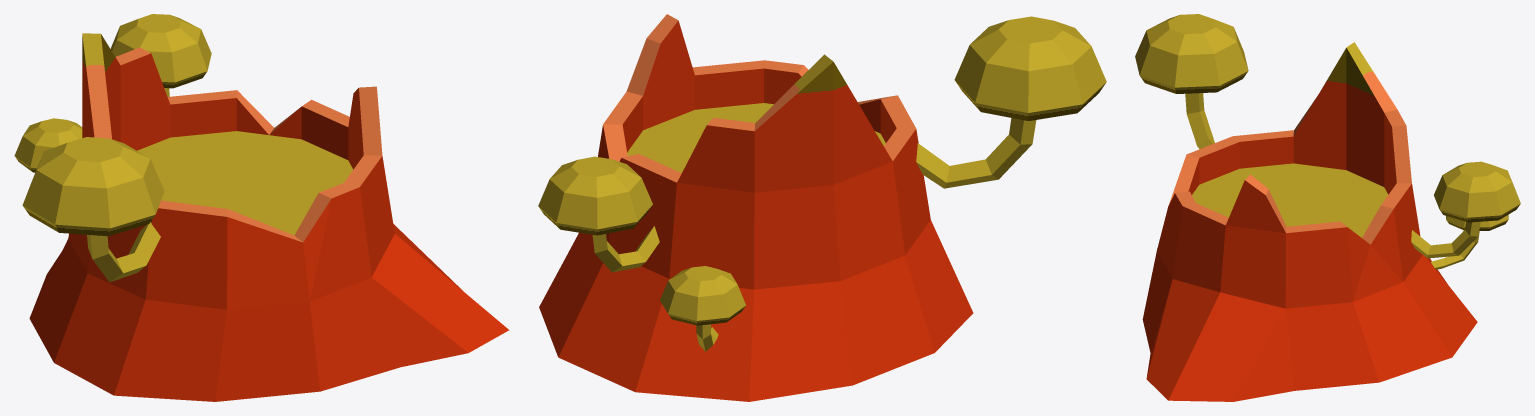
Rendered from trunk.glb.
3 renders of one model, left to right at view 1: azimuth 30°, elevation 25°; view 2: azimuth 150°, elevation 25°; view 3: azimuth 270°, elevation 25°, orthographic. The views are drawn at different scales.
Visible parts, largest first — view 1: trunk; view 2: trunk; view 3: trunk.
Boxes of the visible parts, x1,y1,x2,y2 form: trunk: (14,14,509,401); trunk: (538,14,1106,401); trunk: (1135,14,1520,401).
Size of the model in its own units: 3.32 by 1.97 by 2.93.
1 material, 1 textured.
